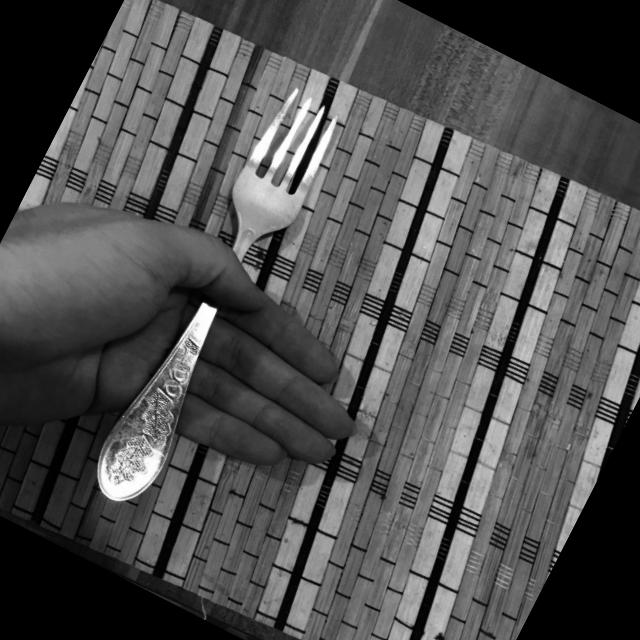fork: (78, 79, 350, 518)
